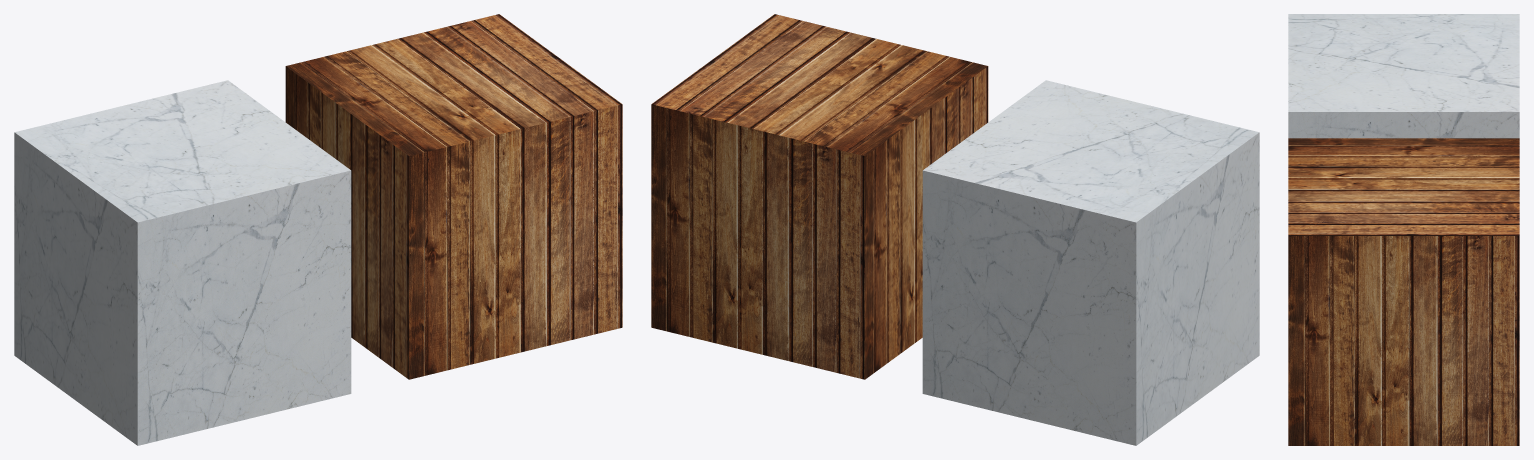
The model's file is cubo10.dae.
3 renders of one model, left to right at view 1: azimuth 30°, elevation 25°; view 2: azimuth 150°, elevation 25°; view 3: azimuth 270°, elevation 25°, orthographic. The views are drawn at different scales.
Parts seen in each view (by area): view 1: Cube (×2); view 2: Cube (×2); view 3: Cube (×2).
Boxes of the visible parts, box(x1,y1,x2,y2) form: Cube (×2): box(14, 14, 622, 445); Cube (×2): box(651, 14, 1259, 445); Cube (×2): box(1288, 14, 1519, 445).
Size of the model in its own units: 454 by 200 by 200.
Materials: 2 (2 with a texture image).
